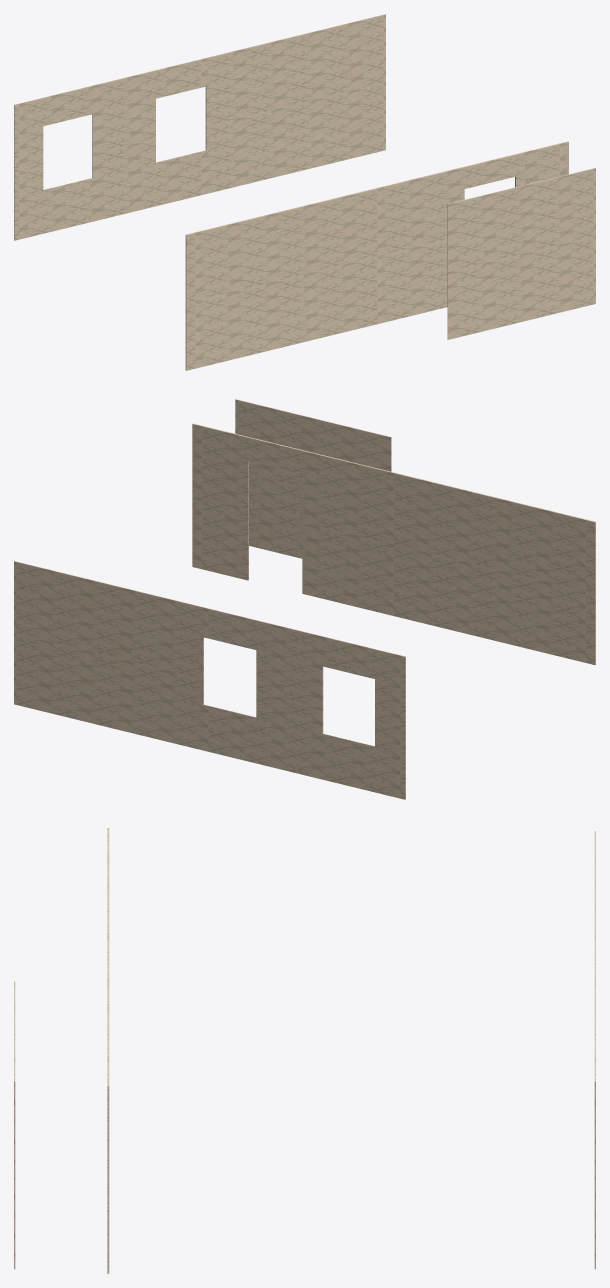
The model's file is BedroomWalls2.fbx.
The picture shows the model from 3 angles, top to bottom: view 1: azimuth 30°, elevation 25°; view 2: azimuth 150°, elevation 25°; view 3: azimuth 270°, elevation 25°; orthographic projection. The views are drawn at different scales.
Parts seen in each view (by area): view 1: polySurface22; view 2: polySurface22; view 3: polySurface22.
Part boxes in pixels (left/top/right/bottom): polySurface22: left=14, top=14, right=595, bottom=370; polySurface22: left=14, top=399, right=595, bottom=799; polySurface22: left=14, top=828, right=595, bottom=1273.
Bounding box in the file's own units: 8.85 × 3 × 8.43.
1 material, 1 textured.
